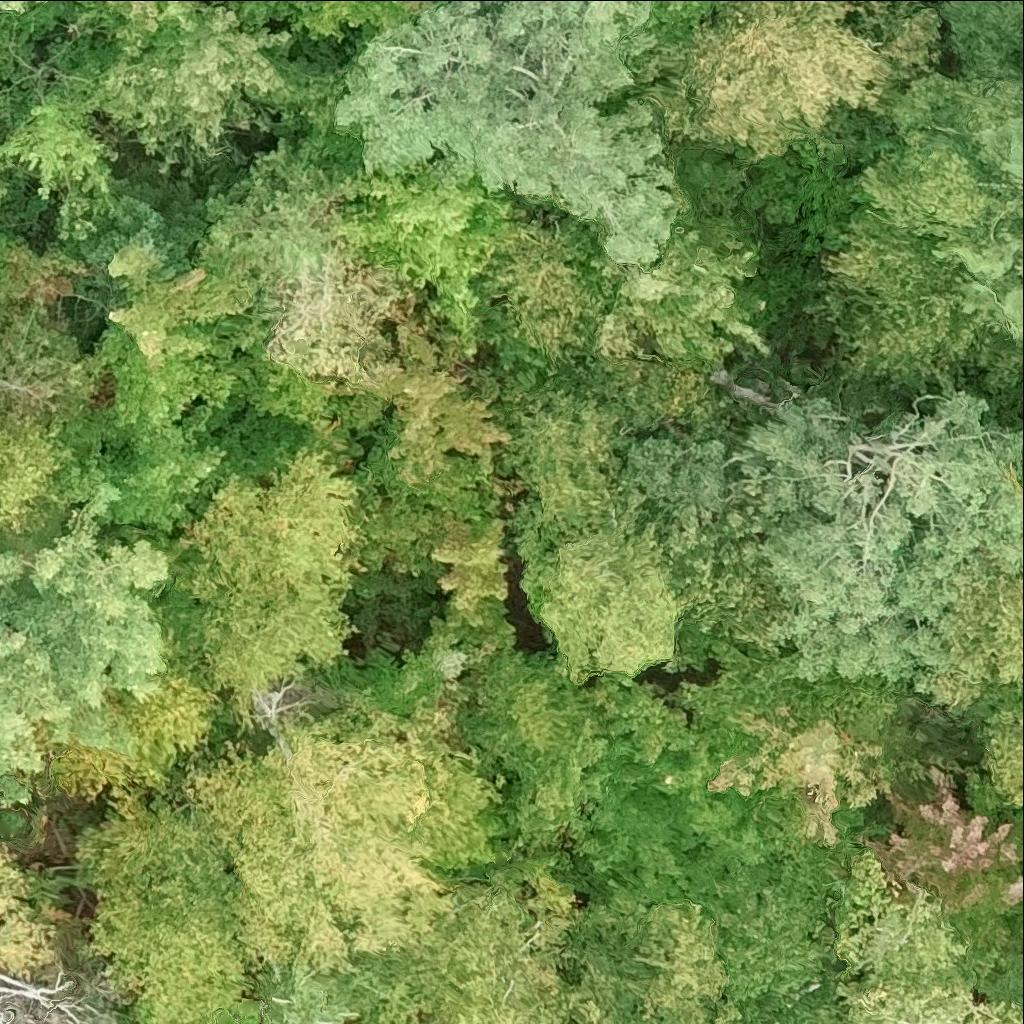crown: (634, 375, 1023, 682), (190, 699, 499, 1003), (337, 0, 676, 273), (596, 0, 939, 159), (359, 324, 528, 621), (0, 484, 168, 772), (79, 795, 262, 1023), (179, 447, 368, 634), (341, 876, 580, 1023), (81, 245, 268, 427), (81, 4, 297, 157), (824, 210, 1001, 393), (189, 139, 366, 315), (859, 74, 1023, 249), (517, 520, 688, 683), (912, 549, 1023, 793), (576, 733, 745, 892), (708, 711, 894, 848), (500, 378, 648, 549), (853, 767, 1023, 911), (653, 487, 802, 651), (594, 236, 767, 375), (203, 581, 357, 736), (568, 897, 744, 1023), (0, 71, 119, 239), (829, 852, 968, 985), (464, 649, 600, 783), (486, 227, 614, 359), (73, 177, 204, 282), (107, 671, 223, 780), (0, 313, 95, 436), (933, 235, 1023, 349), (831, 974, 1023, 1023), (257, 966, 419, 1023), (0, 238, 85, 333), (0, 843, 58, 980), (0, 426, 62, 531), (296, 0, 442, 39), (976, 116, 1023, 181), (0, 773, 27, 808), (211, 1010, 260, 1023), (0, 178, 8, 198), (1021, 451, 1023, 471)
